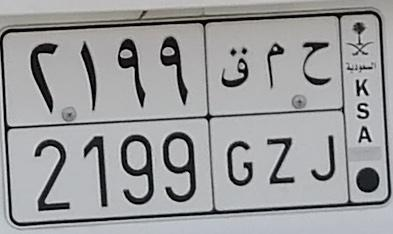1: (77, 40, 110, 210)
2: (28, 39, 72, 210)
9: (159, 34, 199, 204), (115, 37, 155, 206)
G: (221, 46, 254, 187)
J: (301, 40, 336, 183)
Z: (265, 42, 296, 185)
